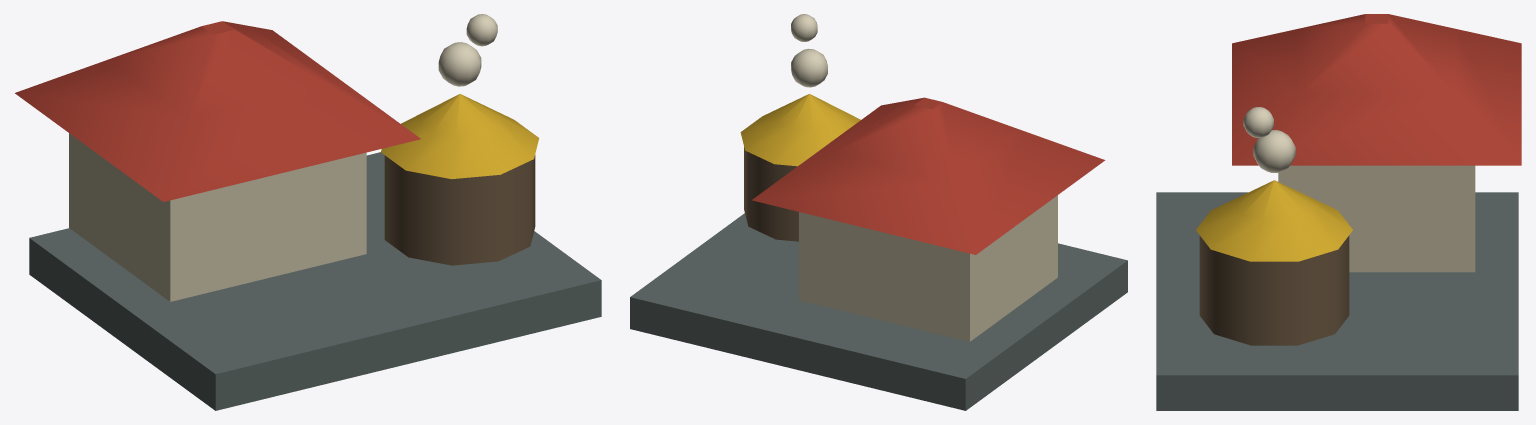
The model's file is dan_tang_fen_feng.glb.
3 views of the same model, side by side, from view 1: azimuth 30°, elevation 25°; view 2: azimuth 150°, elevation 25°; view 3: azimuth 270°, elevation 25° (orthographic). The views are drawn at different scales.
Visible parts, largest first — view 1: _MeshInstance3D_85, _MeshInstance3D_87, _MeshInstance3D_86, _MeshInstance3D_88, _MeshInstance3D_89, _MeshInstance3D_90, _MeshInstance3D_91; view 2: _MeshInstance3D_85, _MeshInstance3D_87, _MeshInstance3D_86, _MeshInstance3D_89, _MeshInstance3D_88, _MeshInstance3D_90, _MeshInstance3D_91; view 3: _MeshInstance3D_85, _MeshInstance3D_87, _MeshInstance3D_86, _MeshInstance3D_88, _MeshInstance3D_89, _MeshInstance3D_90, _MeshInstance3D_91.
Boxes of the visible parts, box(x1,y1,x2,y2) form: _MeshInstance3D_85: box(29, 152, 601, 410); _MeshInstance3D_87: box(15, 21, 420, 201); _MeshInstance3D_86: box(69, 133, 366, 301); _MeshInstance3D_88: box(384, 155, 535, 265); _MeshInstance3D_89: box(381, 94, 539, 179); _MeshInstance3D_90: box(438, 42, 481, 86); _MeshInstance3D_91: box(466, 14, 497, 46); _MeshInstance3D_85: box(630, 213, 1127, 410); _MeshInstance3D_87: box(752, 97, 1105, 254); _MeshInstance3D_86: box(799, 195, 1057, 341); _MeshInstance3D_89: box(740, 94, 860, 166); _MeshInstance3D_88: box(744, 147, 798, 241); _MeshInstance3D_90: box(791, 48, 827, 87); _MeshInstance3D_91: box(791, 14, 817, 41); _MeshInstance3D_85: box(1156, 192, 1518, 410); _MeshInstance3D_87: box(1232, 14, 1521, 165); _MeshInstance3D_86: box(1278, 165, 1475, 272); _MeshInstance3D_88: box(1199, 235, 1349, 345); _MeshInstance3D_89: box(1196, 180, 1352, 261); _MeshInstance3D_90: box(1253, 130, 1295, 172); _MeshInstance3D_91: box(1243, 107, 1273, 137).
Size of the model in its own units: 1.14 by 0.76 by 0.9277.
